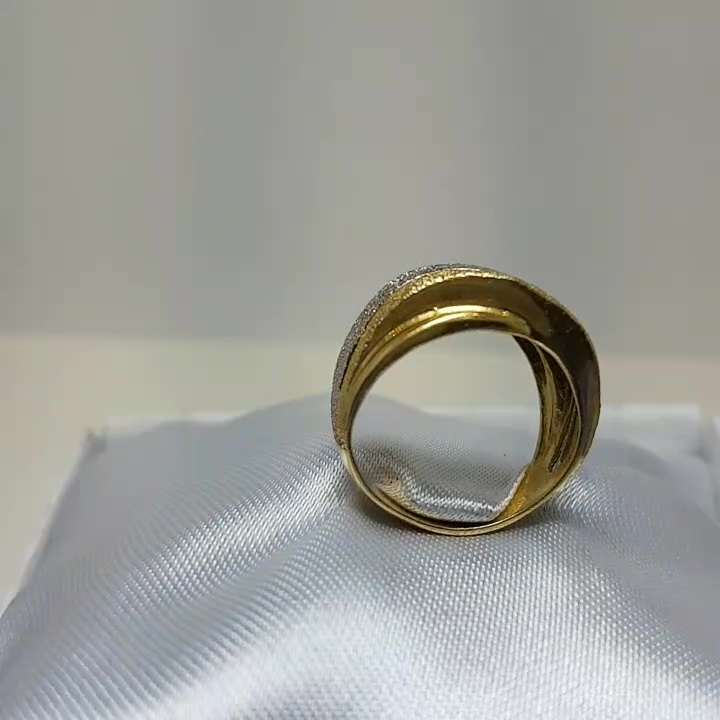Ring 5: (287, 222, 614, 553)
